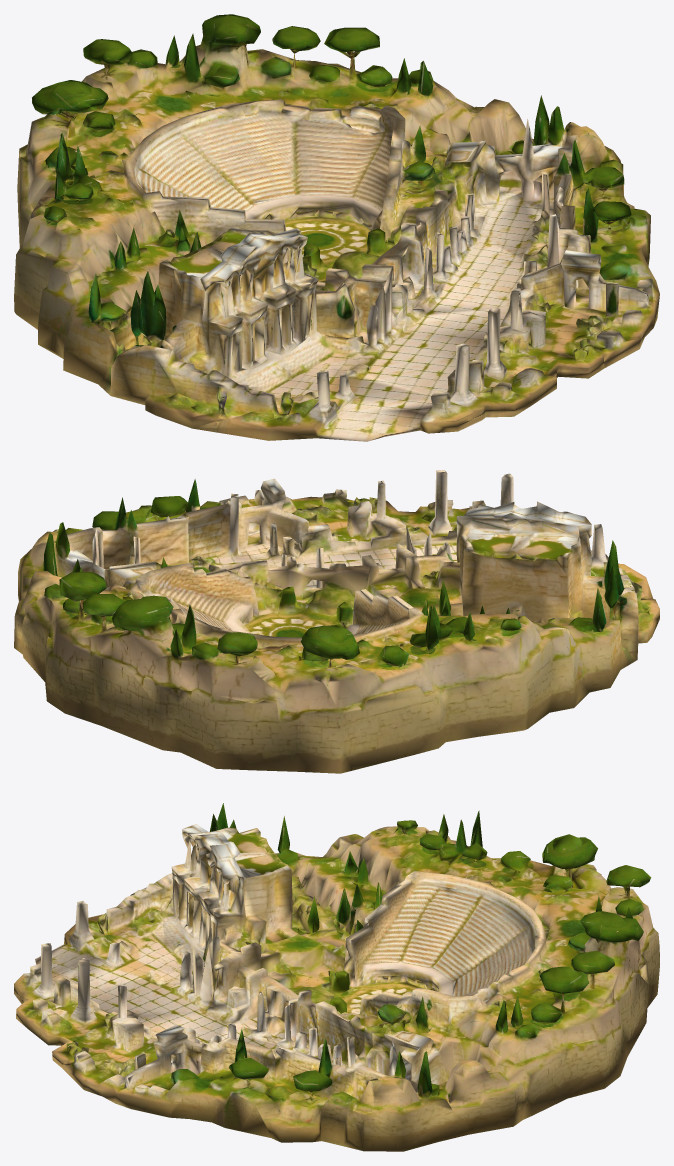
File: city_izmir_ephesus.glb
3 views of the same model, one above another, from view 1: azimuth 30°, elevation 25°; view 2: azimuth 150°, elevation 25°; view 3: azimuth 270°, elevation 25° (orthographic). The views are drawn at different scales.
Parts seen in each view (by area): view 1: Mesh1.0; view 2: Mesh1.0; view 3: Mesh1.0.
Part boxes in pixels (bbox=[...]): Mesh1.0: bbox=[14, 14, 659, 441]; Mesh1.0: bbox=[14, 470, 659, 773]; Mesh1.0: bbox=[14, 803, 659, 1151].
Bounding box in the file's own units: 87.49 × 20 × 92.17.
Materials: 1 (1 with a texture image).
